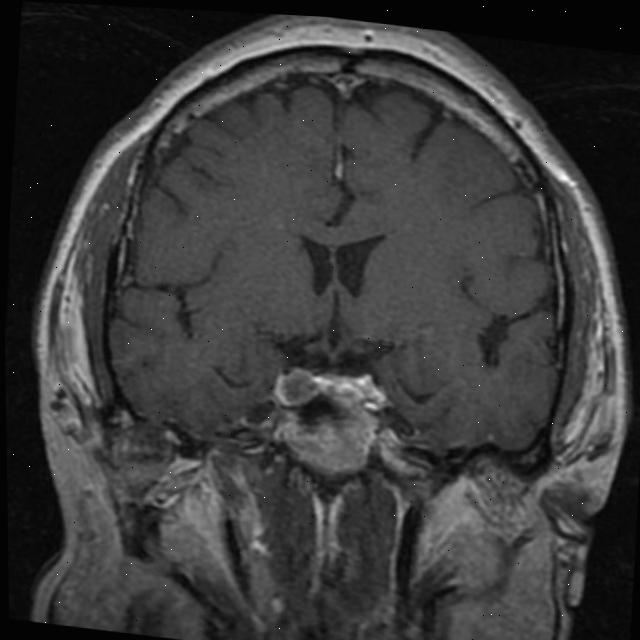Pituitary: (271, 362, 388, 418), (287, 408, 376, 478)
